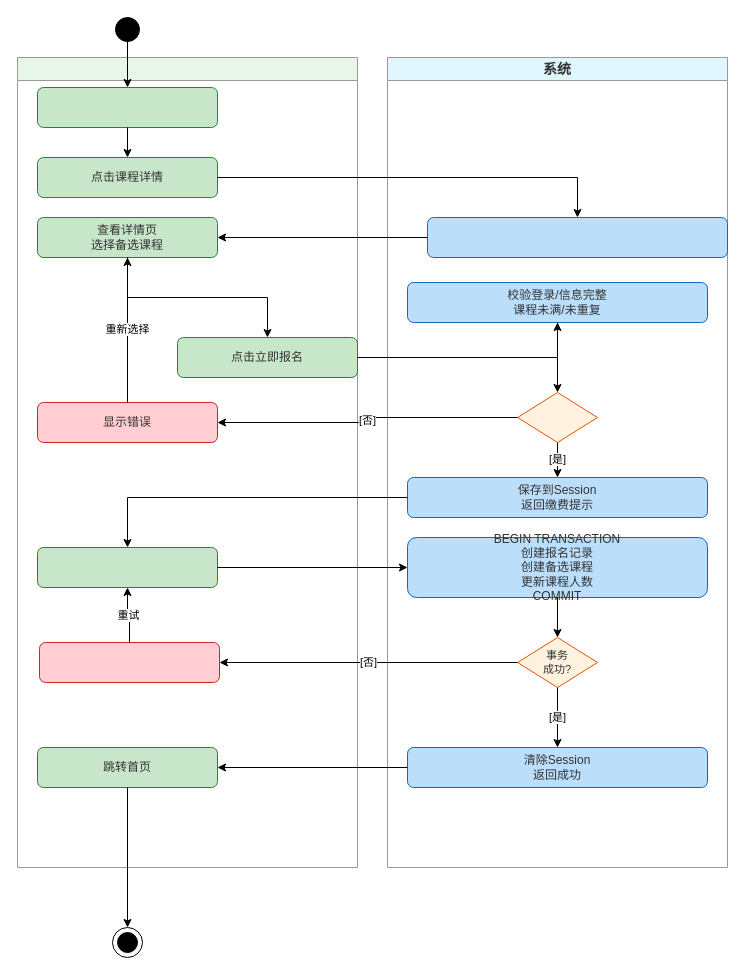
Some shapes in this 745 by 975 pixel diagram are drawn without their labels. The box of each missing label's shape, as (x1, y1, x2, y2) in pixels:
查询课程信息 校验权限: (426, 216, 728, 258)
校验 通过?: (516, 392, 598, 442)
浏览课程列表: (36, 86, 218, 128)
用户: (16, 56, 358, 868)
跳转缴费确认页 点击确认缴费: (36, 546, 218, 588)
返回失败: (38, 642, 220, 682)
